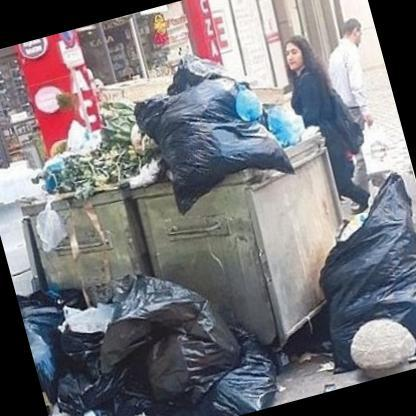Garbage: (29, 82, 310, 214), (289, 166, 415, 383), (90, 241, 240, 415), (128, 58, 291, 212), (136, 329, 296, 415), (13, 279, 82, 415), (43, 296, 114, 394), (44, 371, 169, 415), (174, 52, 224, 90), (237, 86, 272, 127), (270, 102, 294, 133)
